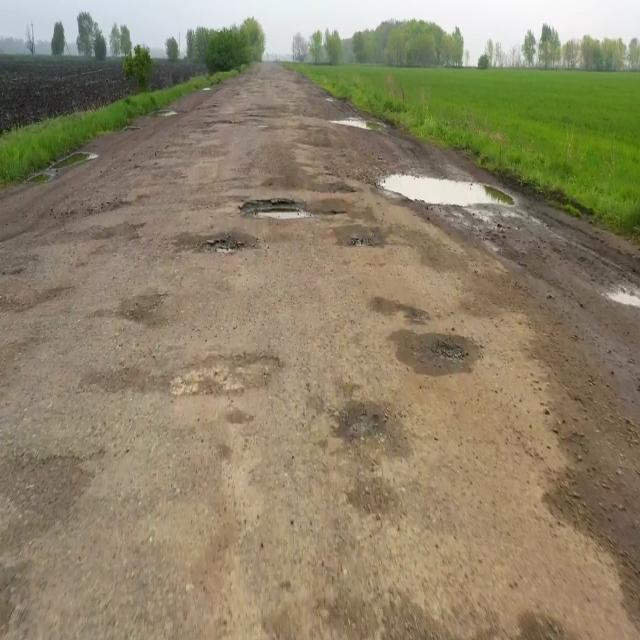road-pothole: (378, 172, 521, 205), (24, 148, 99, 187), (242, 195, 335, 221), (332, 114, 397, 134), (602, 276, 639, 309), (422, 339, 470, 362), (202, 237, 247, 260)
